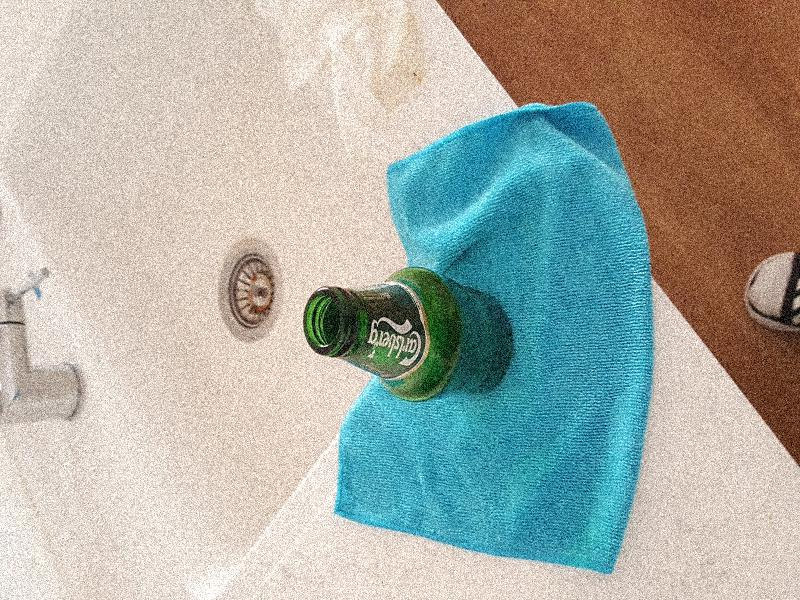Beer: (305, 266, 515, 395)
